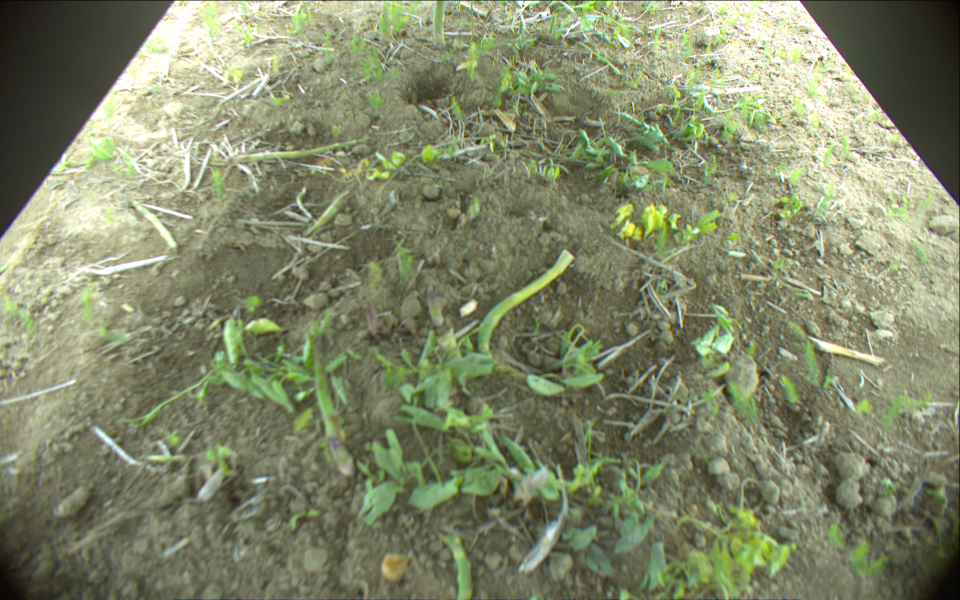aspa: (479, 250, 574, 357), (313, 339, 351, 478), (229, 134, 372, 165), (439, 534, 472, 600), (432, 1, 446, 50), (426, 293, 442, 333)
